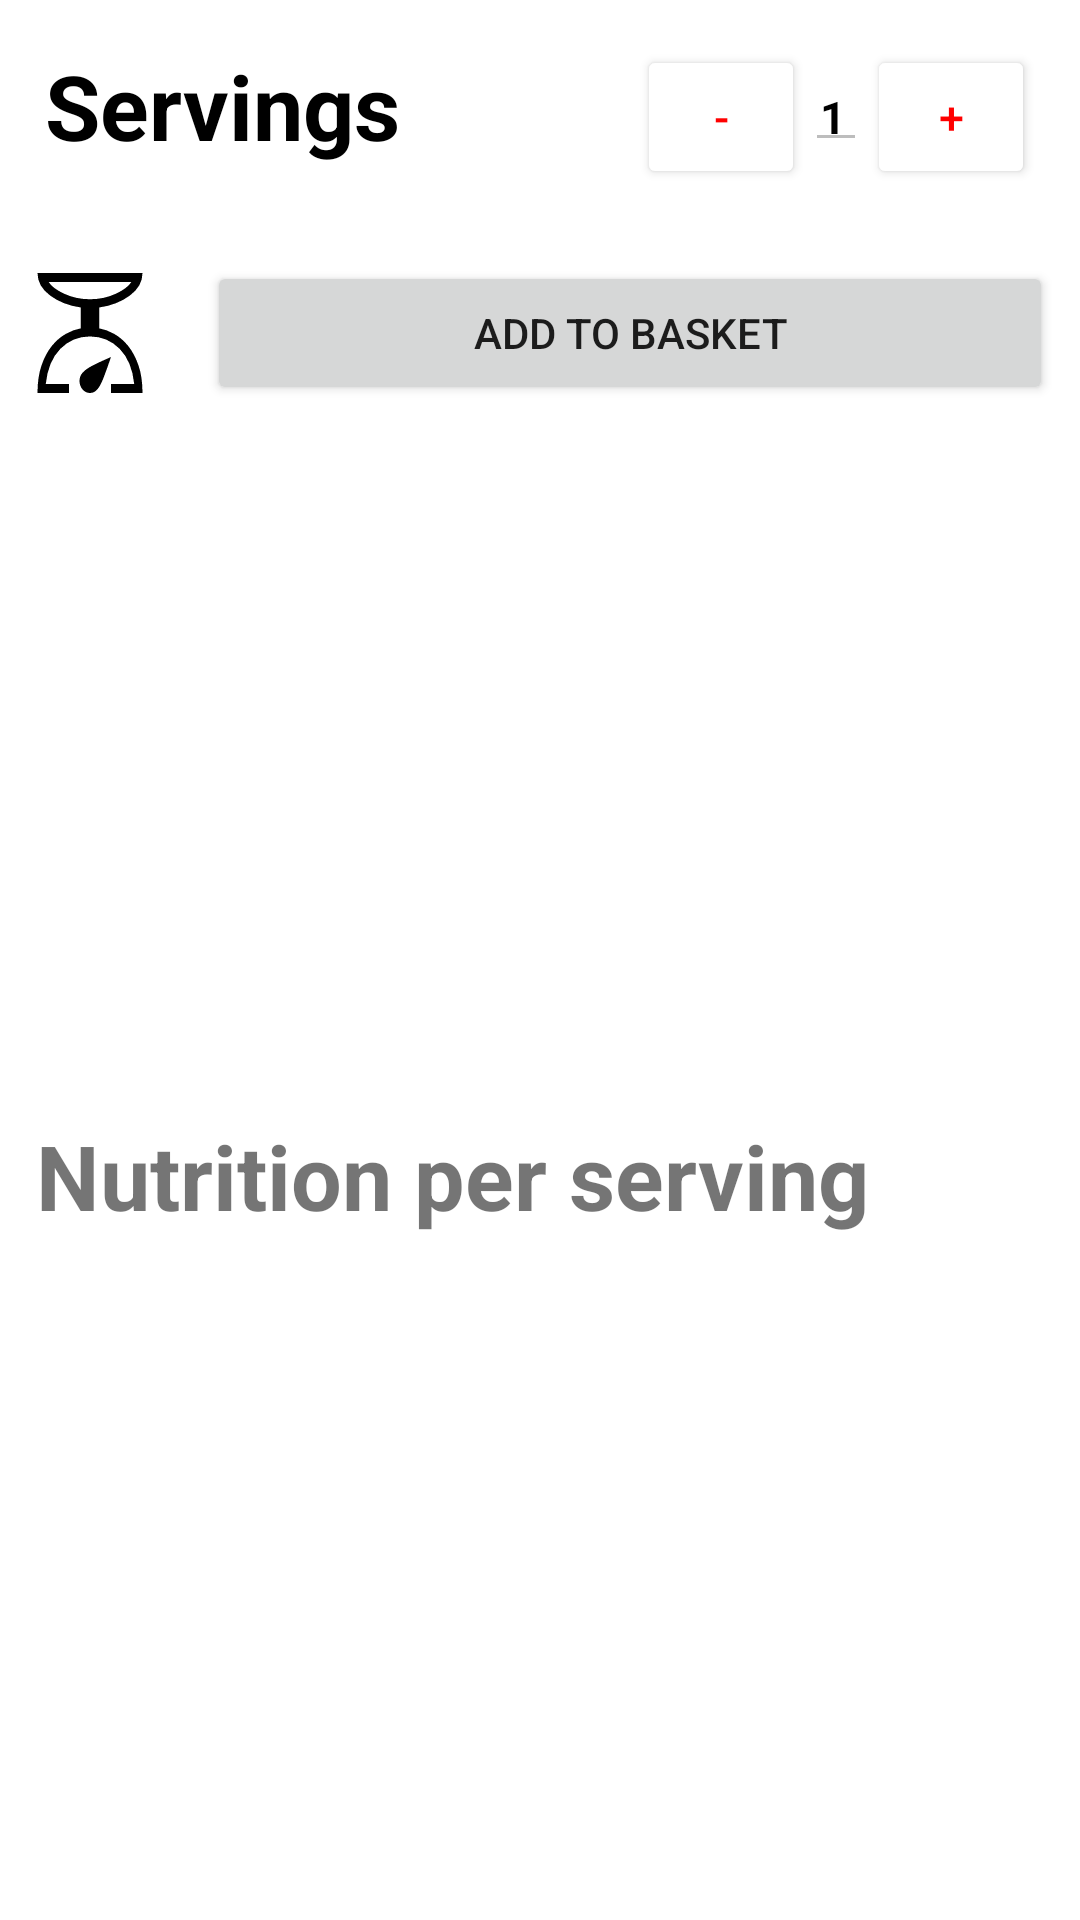

Screen size 1080×1920. Icon name, then its center in pixels as point (x, y):
scale: point (90, 333)
